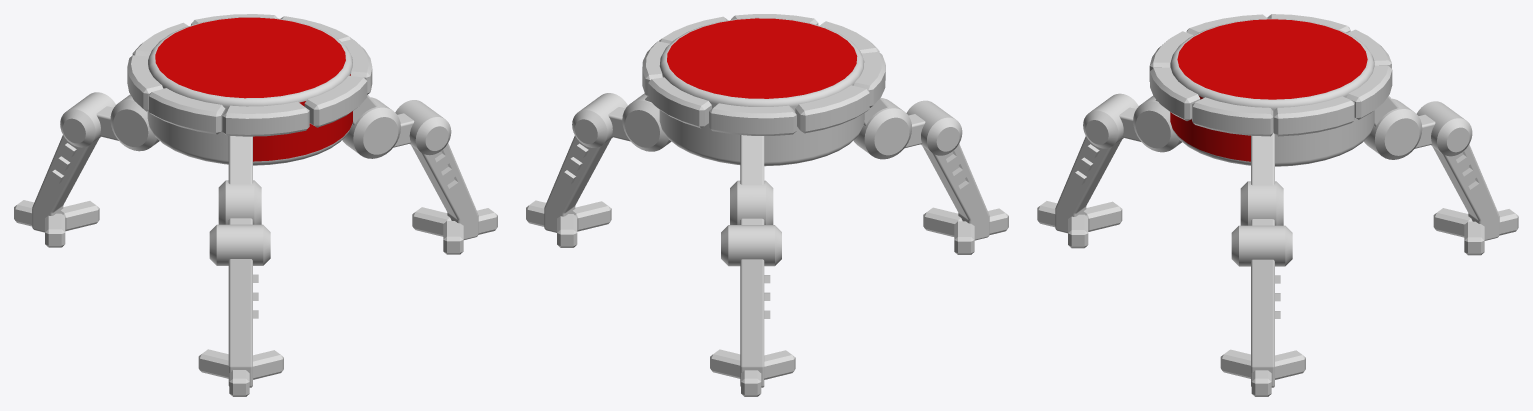
File: moidronelegstestexportvertexcolour.fbx
The picture shows the model from 3 angles, left to right: view 1: azimuth 30°, elevation 25°; view 2: azimuth 150°, elevation 25°; view 3: azimuth 270°, elevation 25°; orthographic projection.
Parts seen in each view (by area): view 1: obj1; view 2: obj1; view 3: obj1.
Part boxes in pixels (bbox=[...]): obj1: bbox=[14, 14, 497, 396]; obj1: bbox=[526, 14, 1008, 396]; obj1: bbox=[1037, 14, 1518, 396].
Size of the model in its own units: 17.76 by 10.24 by 19.99.
